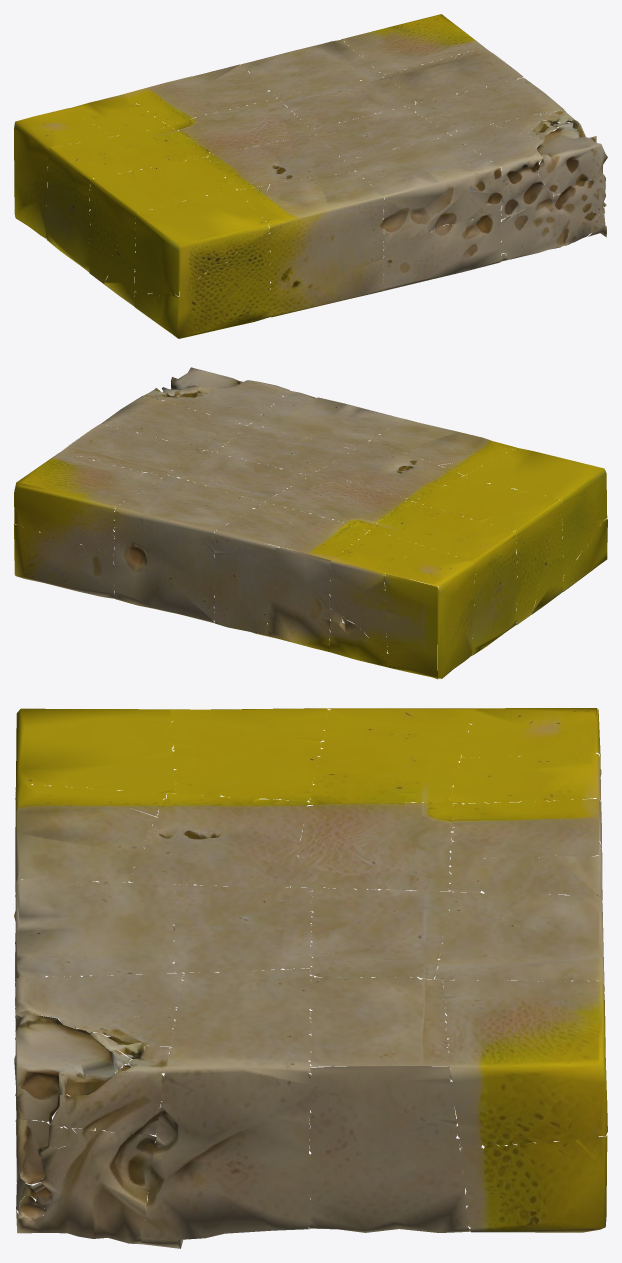
The model's file is foam_block.glb.
The picture shows the model from 3 angles, top to bottom: view 1: azimuth 30°, elevation 25°; view 2: azimuth 150°, elevation 25°; view 3: azimuth 270°, elevation 25°; orthographic projection. The views are drawn at different scales.
Visible parts, largest first — view 1: tripo_node_9c1dd005-064a-422e-a305-666130025e5a; view 2: tripo_node_9c1dd005-064a-422e-a305-666130025e5a; view 3: tripo_node_9c1dd005-064a-422e-a305-666130025e5a.
Boxes of the visible parts, x1,y1,x2,y2 form: tripo_node_9c1dd005-064a-422e-a305-666130025e5a: [14, 14, 607, 338]; tripo_node_9c1dd005-064a-422e-a305-666130025e5a: [14, 367, 607, 679]; tripo_node_9c1dd005-064a-422e-a305-666130025e5a: [14, 708, 607, 1248].
Size of the model in its own units: 1 by 0.2392 by 0.6846.
1 material, 1 textured.
